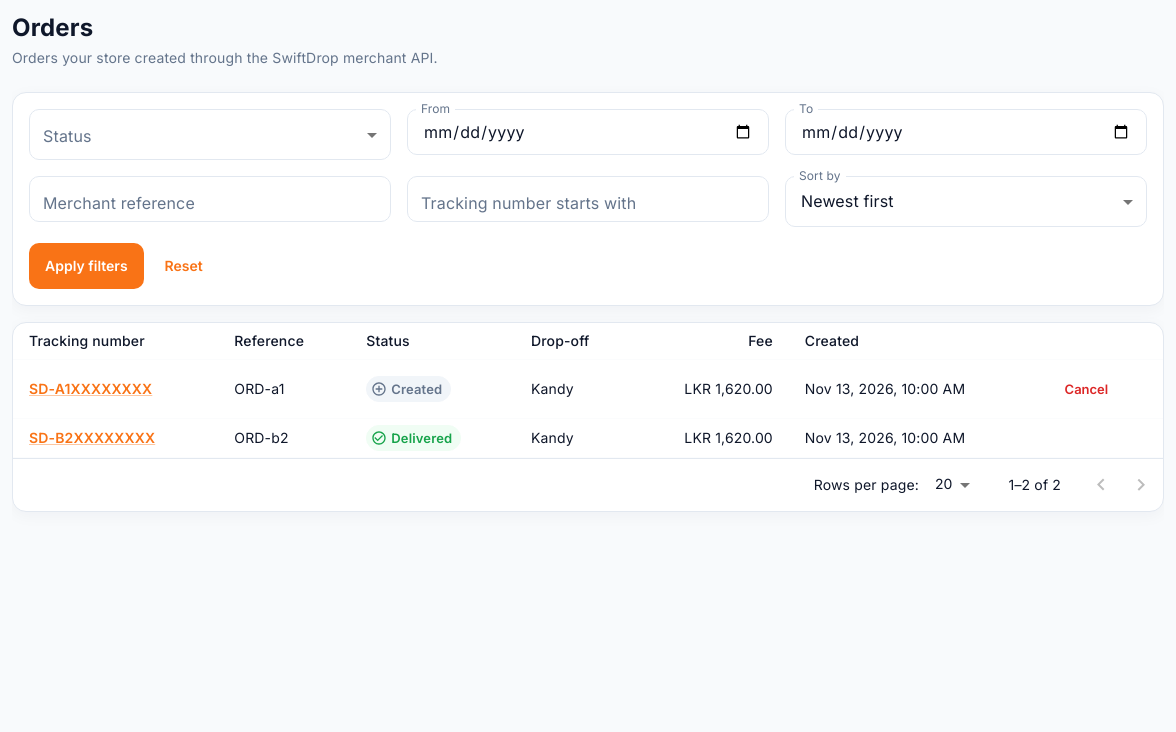
Test: TST-040 merchant orders list (Member #6, FR-PAR-008) › does not send an invalid date range
expect the table named "Orders" is shown: met, box [13,323,1163,458]
Type "2026-11-13" into the date field labelled "From" at (588, 132), box [407,109,769,155]
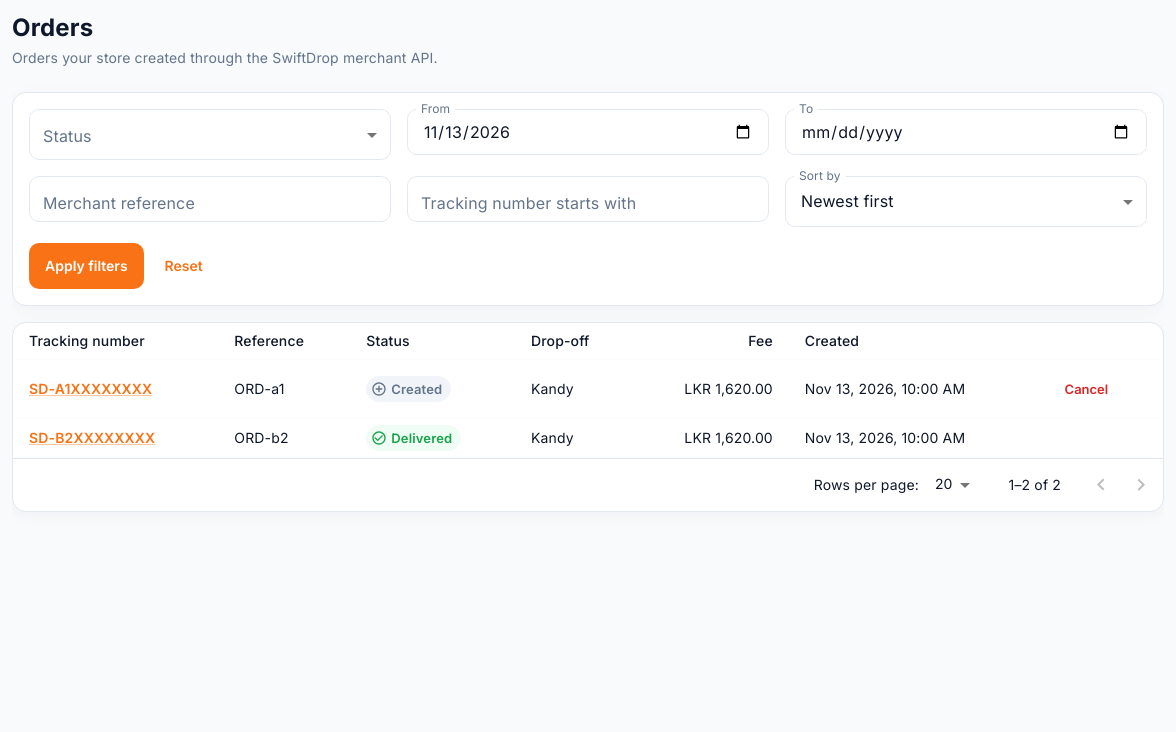
Type "2026-11-01" into the date field labelled "To" at (966, 132), box [785,109,1147,155]
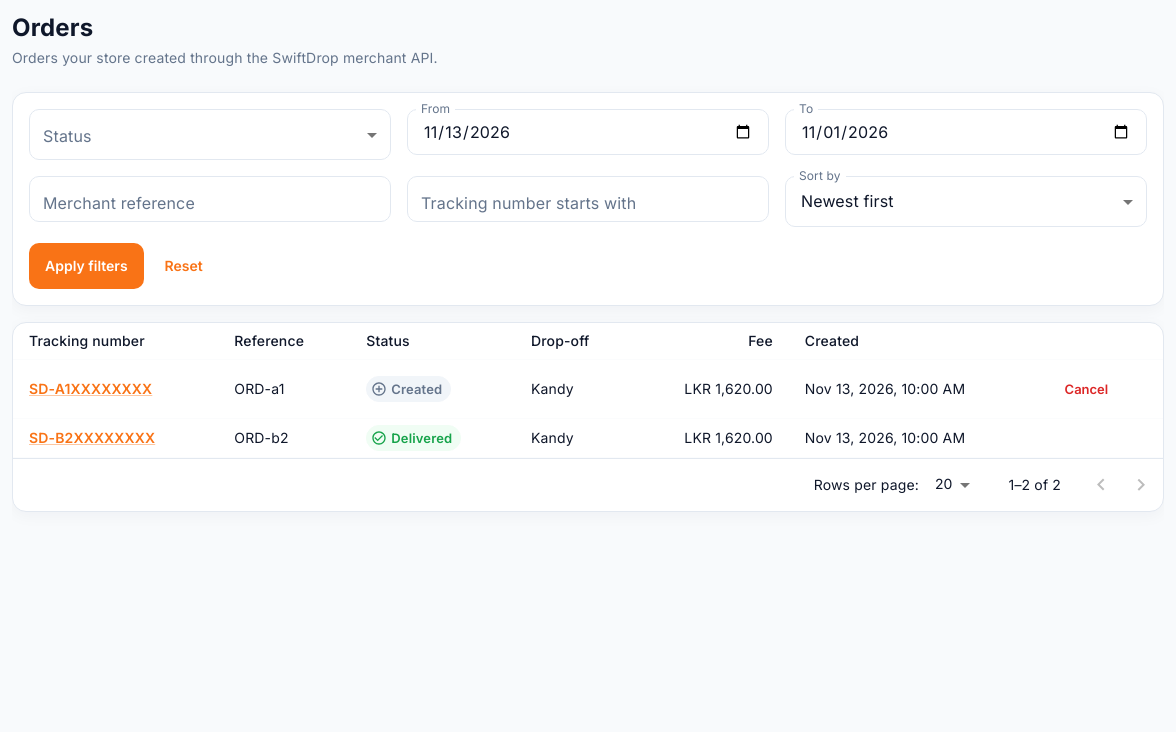
Click the button "Apply filters" at (86, 266), box [29,243,144,289]
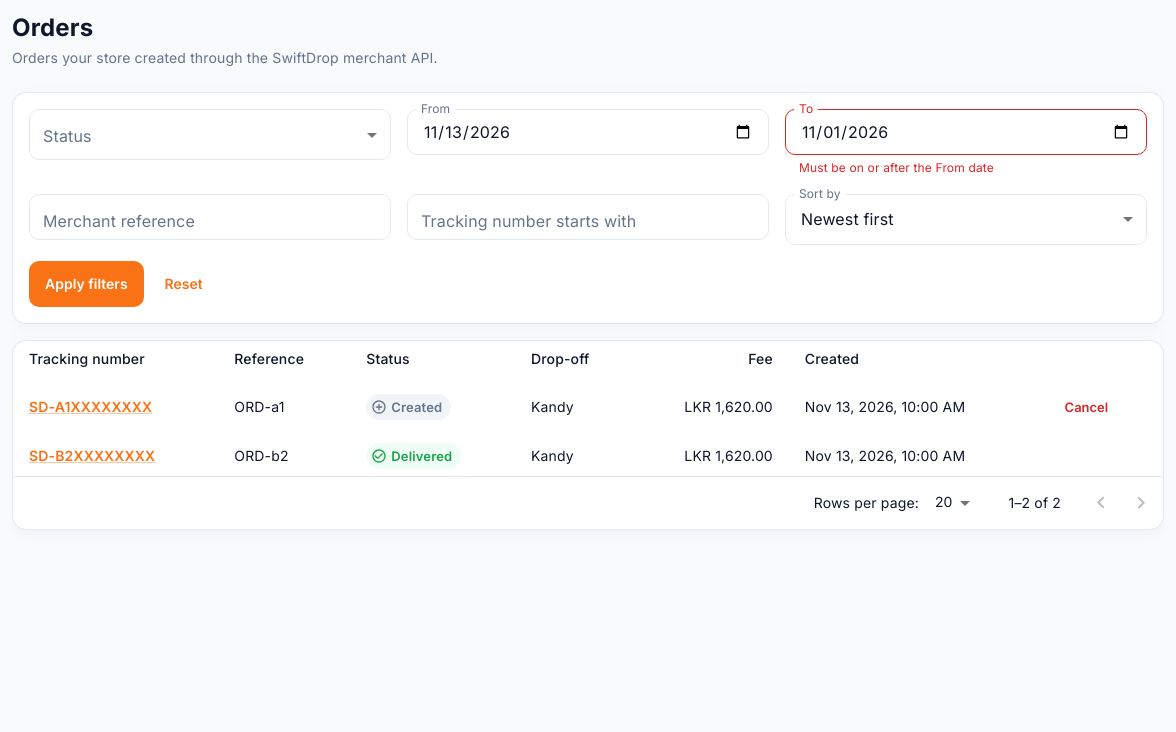
expect the text "Must be on or after the From date" is shown: met, box [799,160,994,175]
